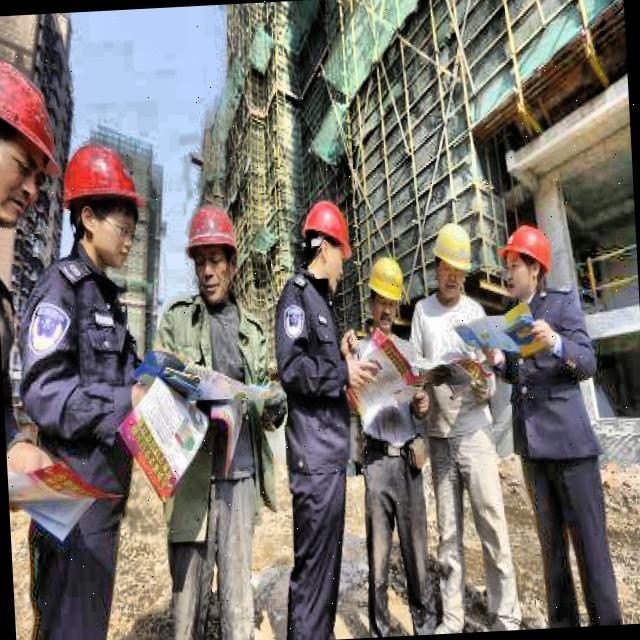helmet: (59, 138, 152, 284), (0, 60, 55, 236), (180, 194, 248, 309), (296, 194, 356, 293), (496, 218, 558, 306), (428, 216, 477, 302), (364, 251, 410, 334)
